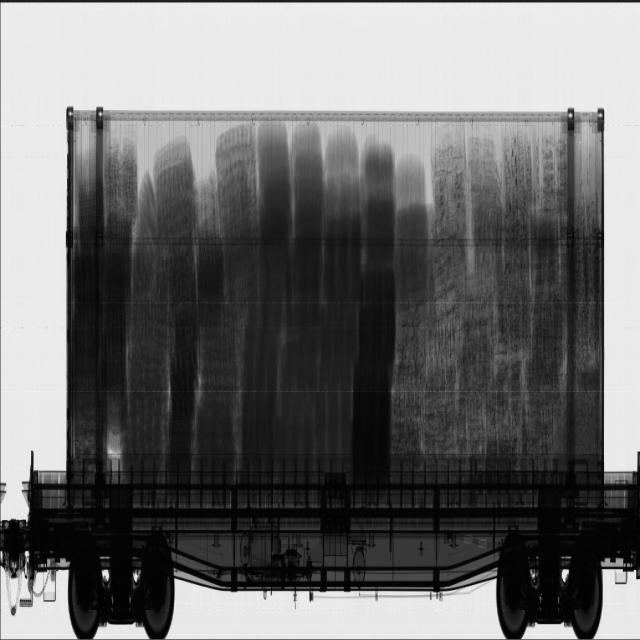clothes: (125, 126, 255, 472)
shoes: (399, 129, 573, 459)
